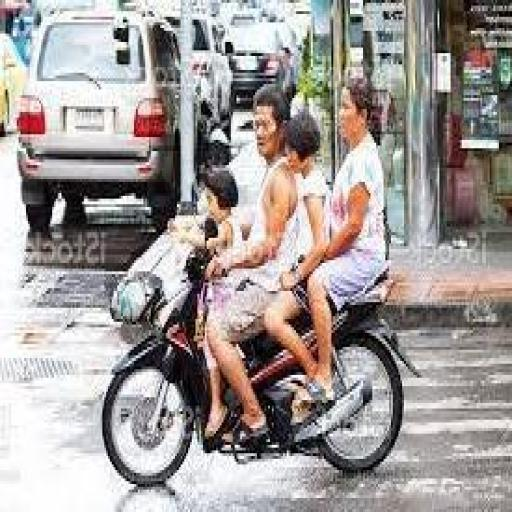no helmet: (240, 78, 318, 210)
triple riding: (89, 44, 432, 484)
